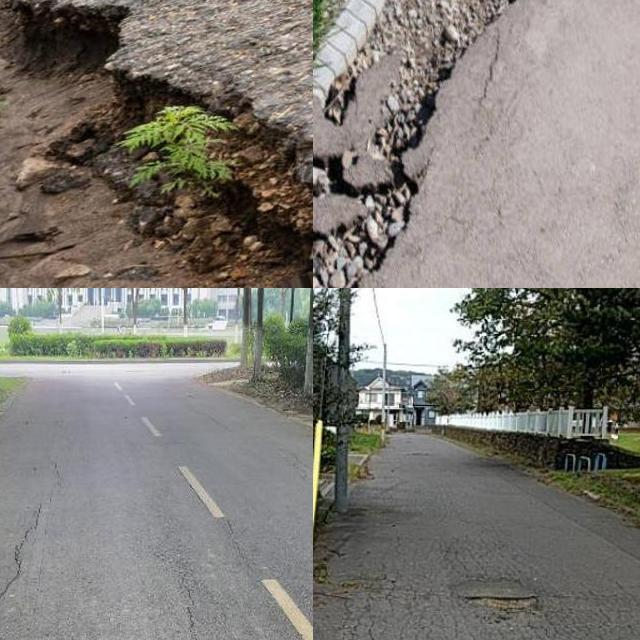Lubang: (455, 581, 541, 625)
Memanjang: (0, 486, 85, 640)
Pinggir: (0, 0, 313, 288), (313, 0, 539, 288)
Retak Buaya: (335, 593, 450, 640)
